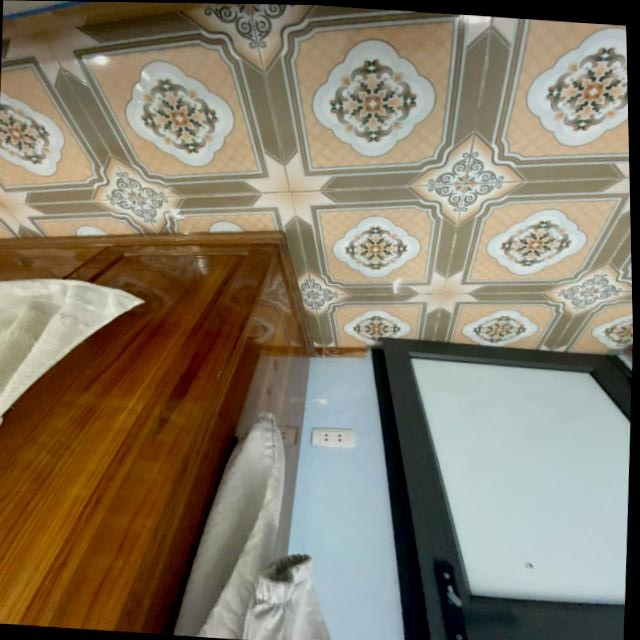outlet: (310, 427, 355, 449)
